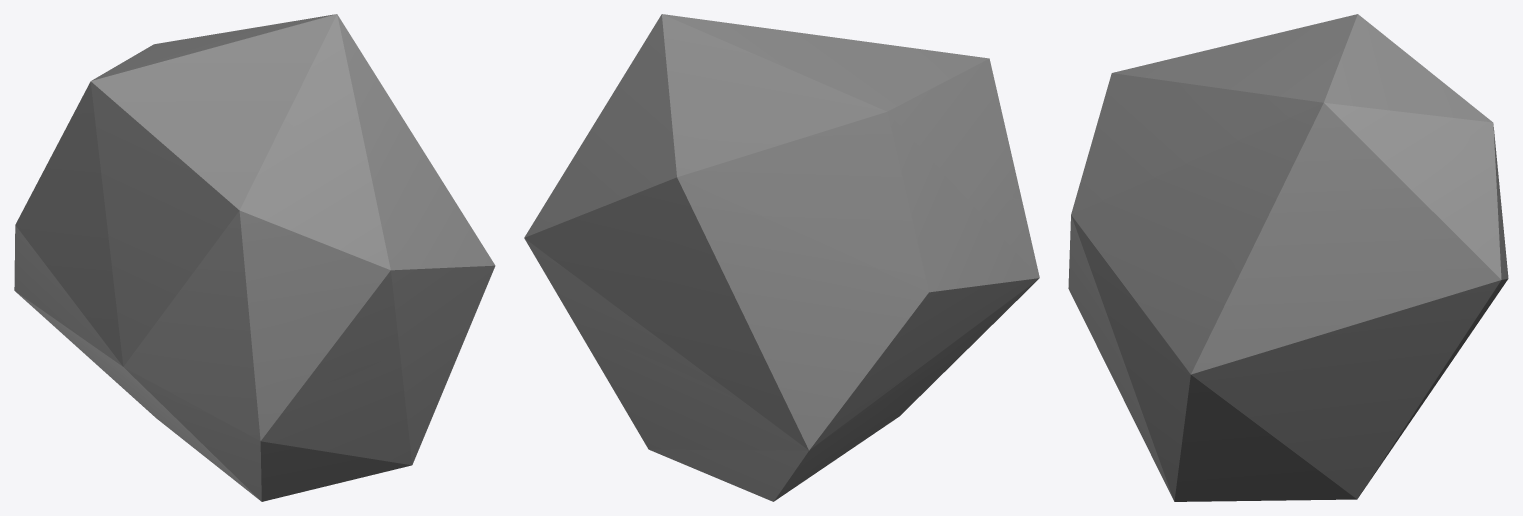
Rendered from rock_small_round.fbx.
3 renders of one model, left to right at view 1: azimuth 30°, elevation 25°; view 2: azimuth 150°, elevation 25°; view 3: azimuth 270°, elevation 25°, orthographic. The views are drawn at different scales.
Visible parts, largest first — view 1: rock_small_round; view 2: rock_small_round; view 3: rock_small_round.
Boxes of the visible parts, left/top/right/bottom form: rock_small_round: left=14, top=14, right=495, bottom=501; rock_small_round: left=524, top=14, right=1039, bottom=501; rock_small_round: left=1068, top=14, right=1508, bottom=501.
Size of the model in its own units: 0.2996 by 0.3 by 0.3.
1 material, 1 textured.
